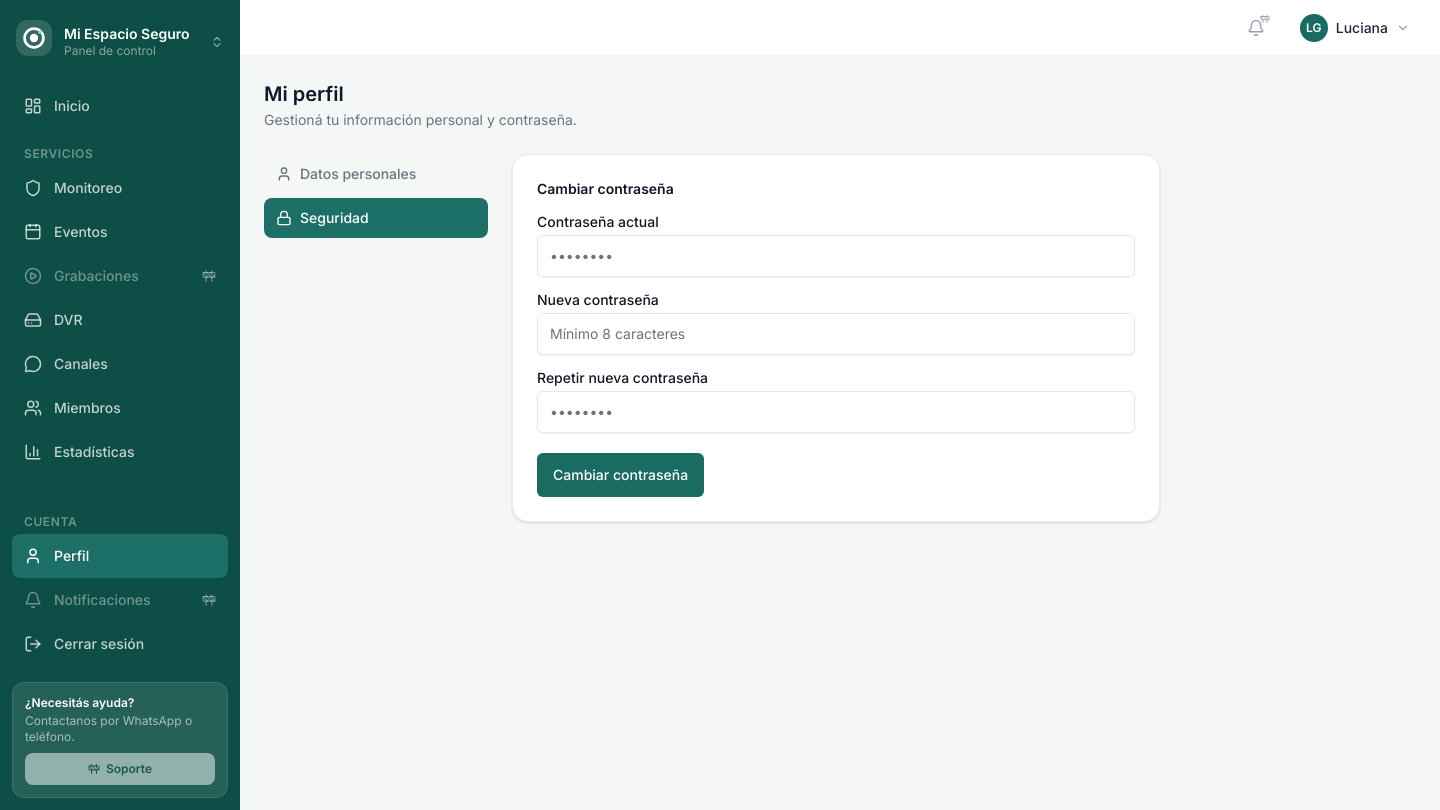
Test: ProfilePage › maps a 400 to the current-password field
Type "mala" into the password field labelled "Contraseña actual".
click(836, 256); type("mala")  # box [537,235,1135,277]
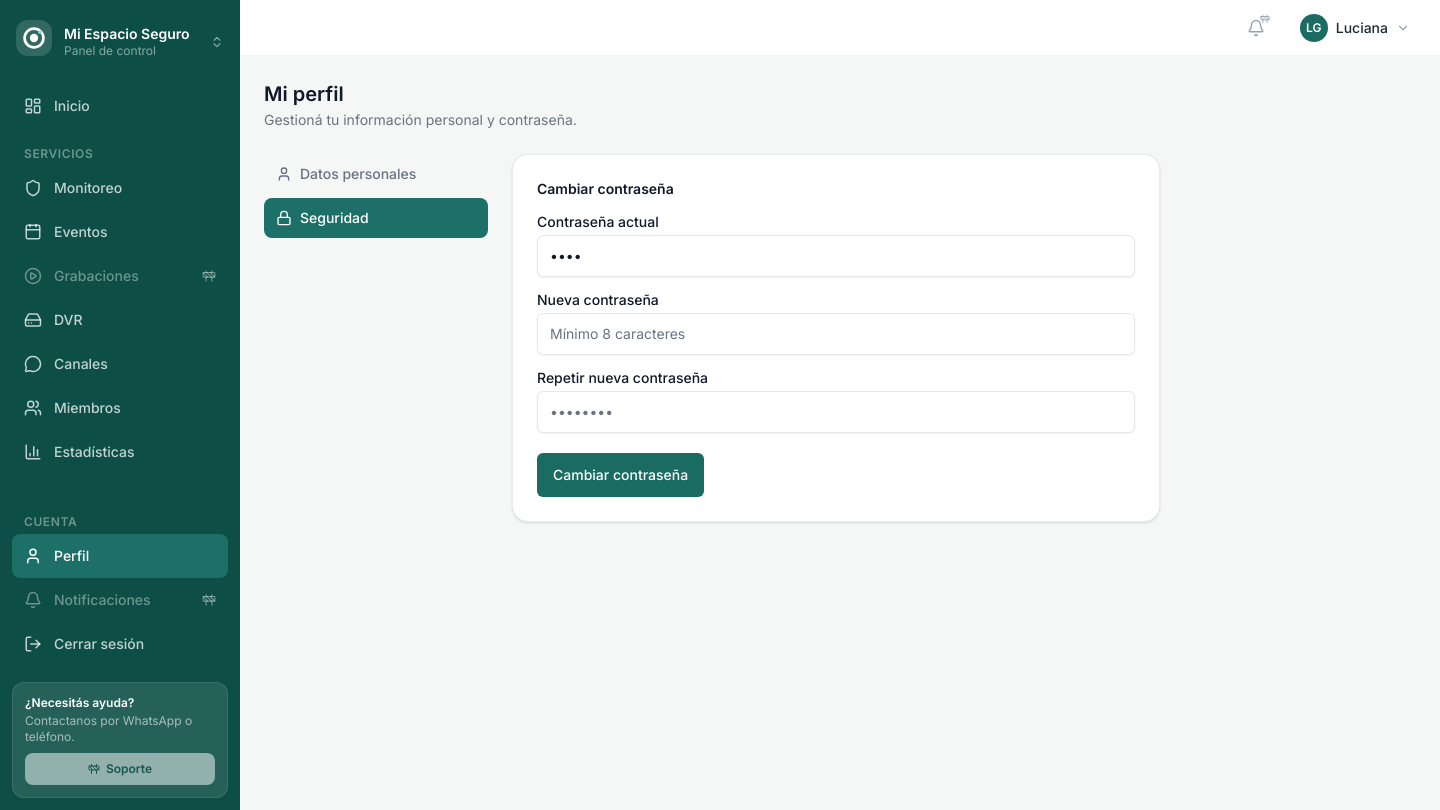
Type "nuevaClave123" into the password field labelled "Nueva contraseña".
click(836, 334); type("nuevaClave123")  # box [537,313,1135,355]
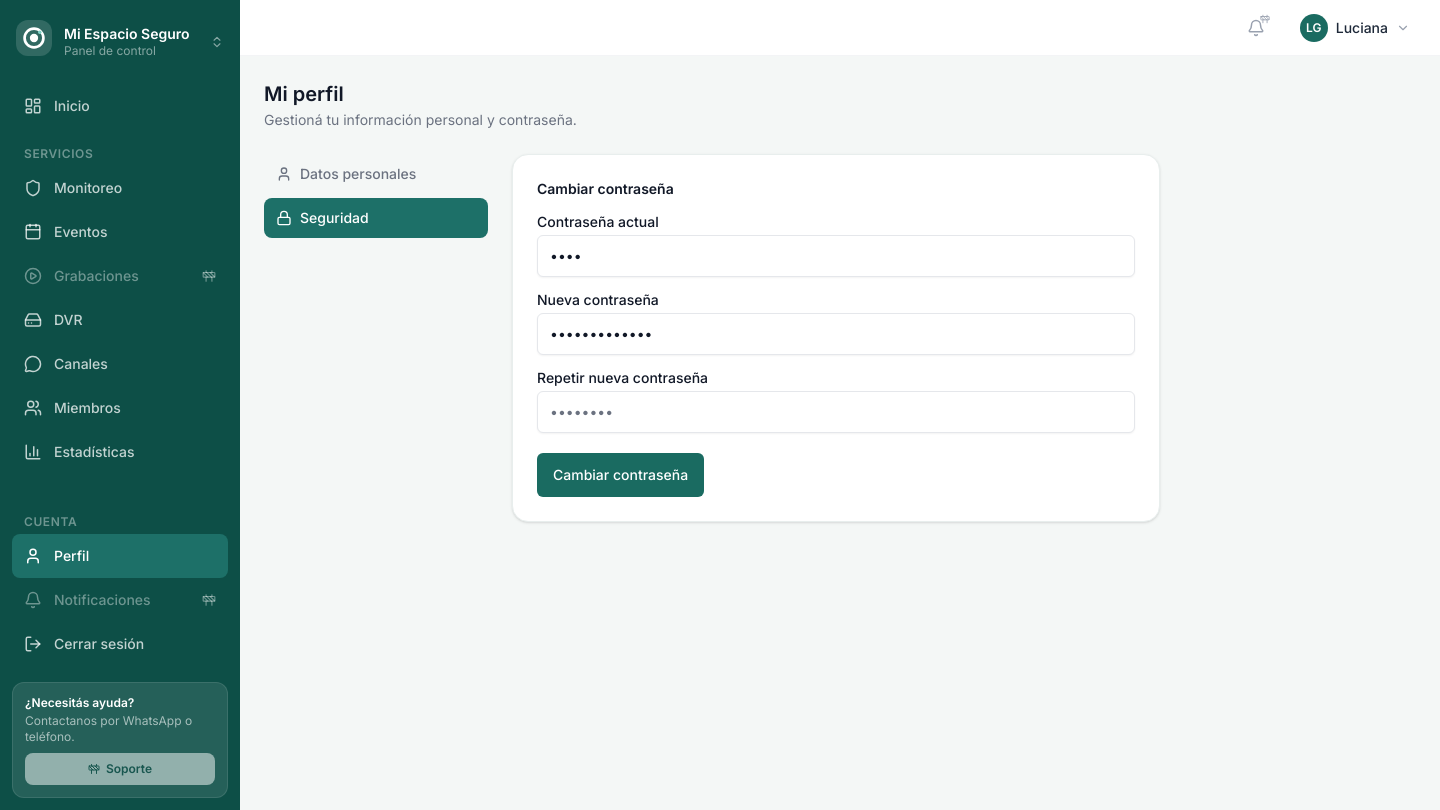
Type "nuevaClave123" into the password field labelled "Repetir nueva contraseña".
click(836, 412); type("nuevaClave123")  # box [537,391,1135,433]
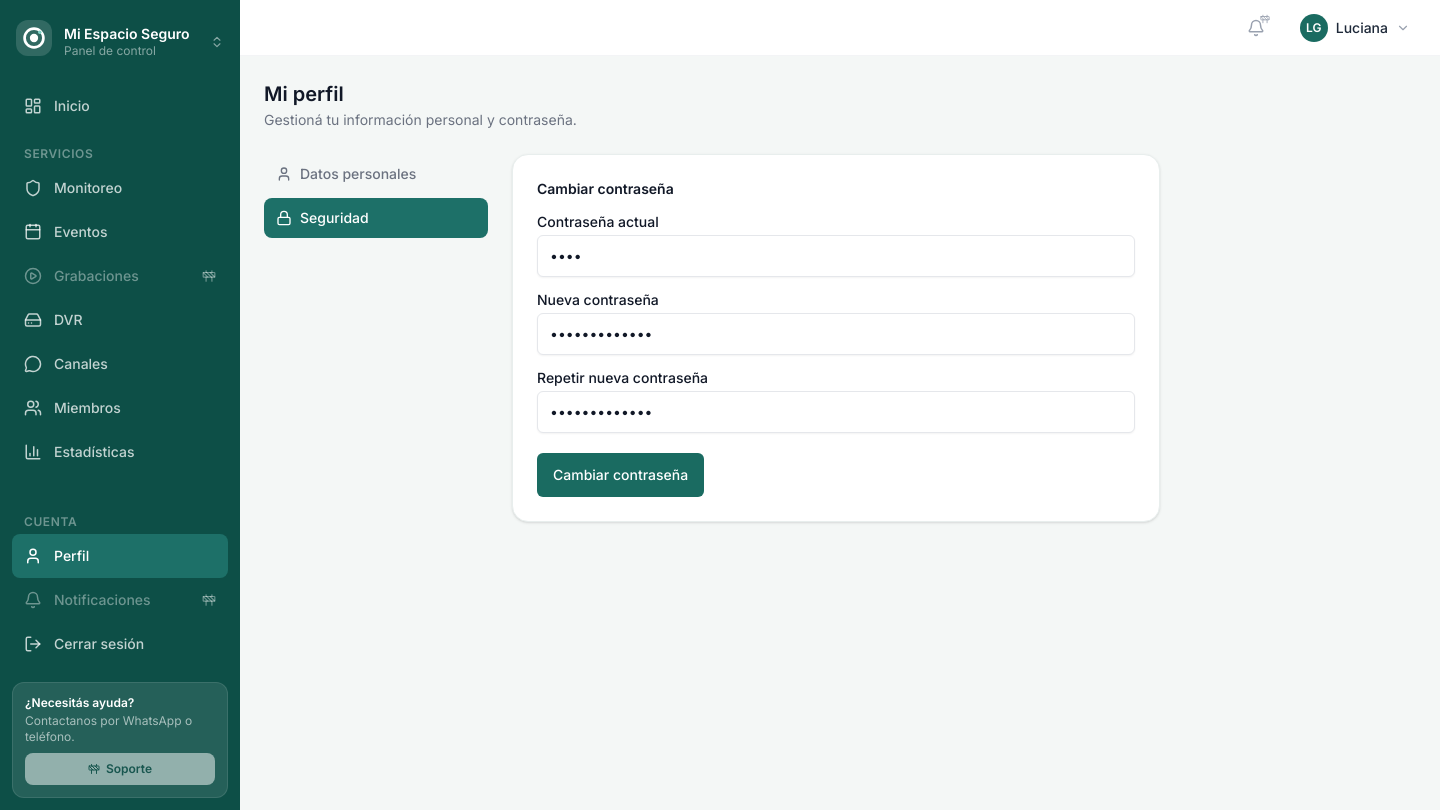
Click the button "Cambiar contraseña".
click(621, 475)  # box [537,453,704,497]
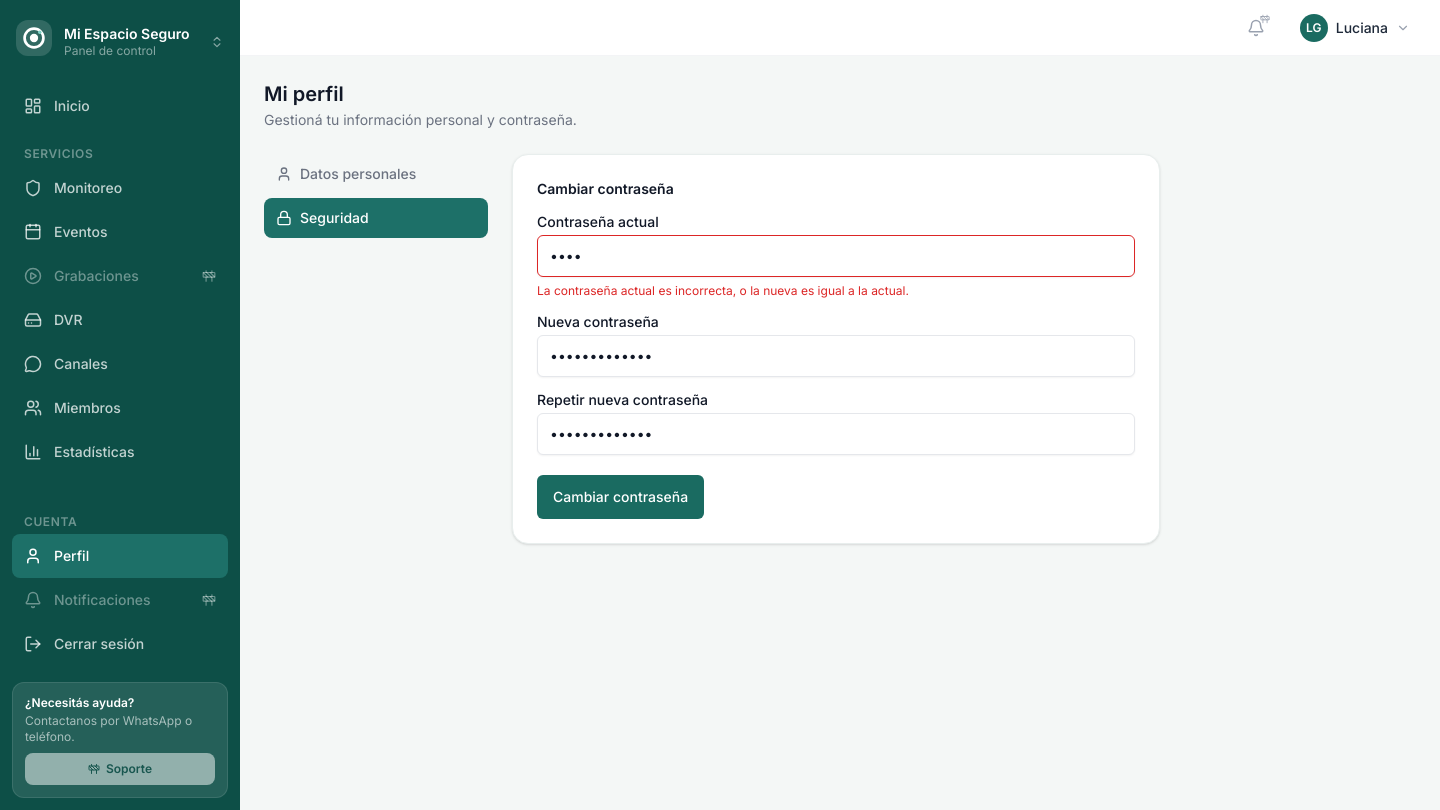
Check: the text "contraseña actual es incorrecta" is shown, box [537,283,909,298]
